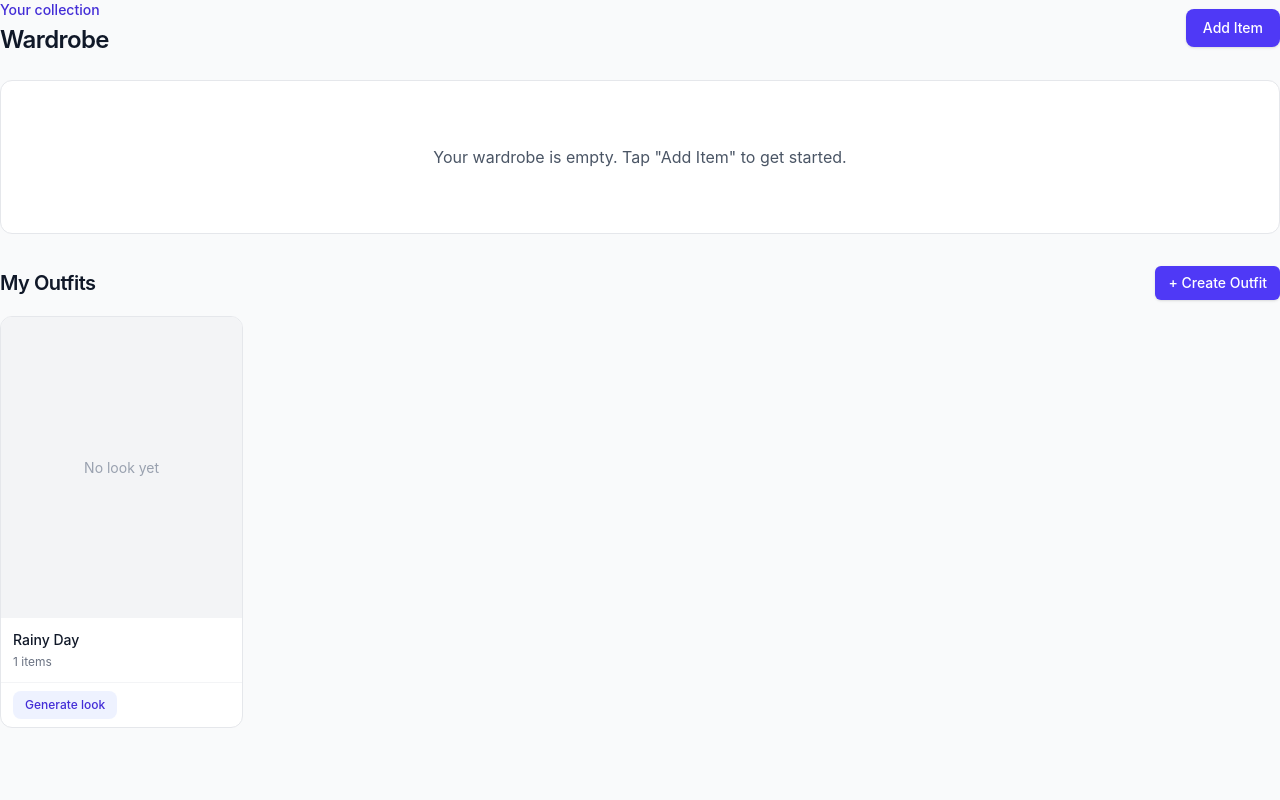
Scenario: WardrobePage saved outfit look cards › starts nothing on load; Cancel in the confirmation spends nothing
The width and height of the screenshot is (1280, 800).
Click the button with aria-label "Generate look for Rainy Day".
click(65, 706)  # box [13,692,117,720]
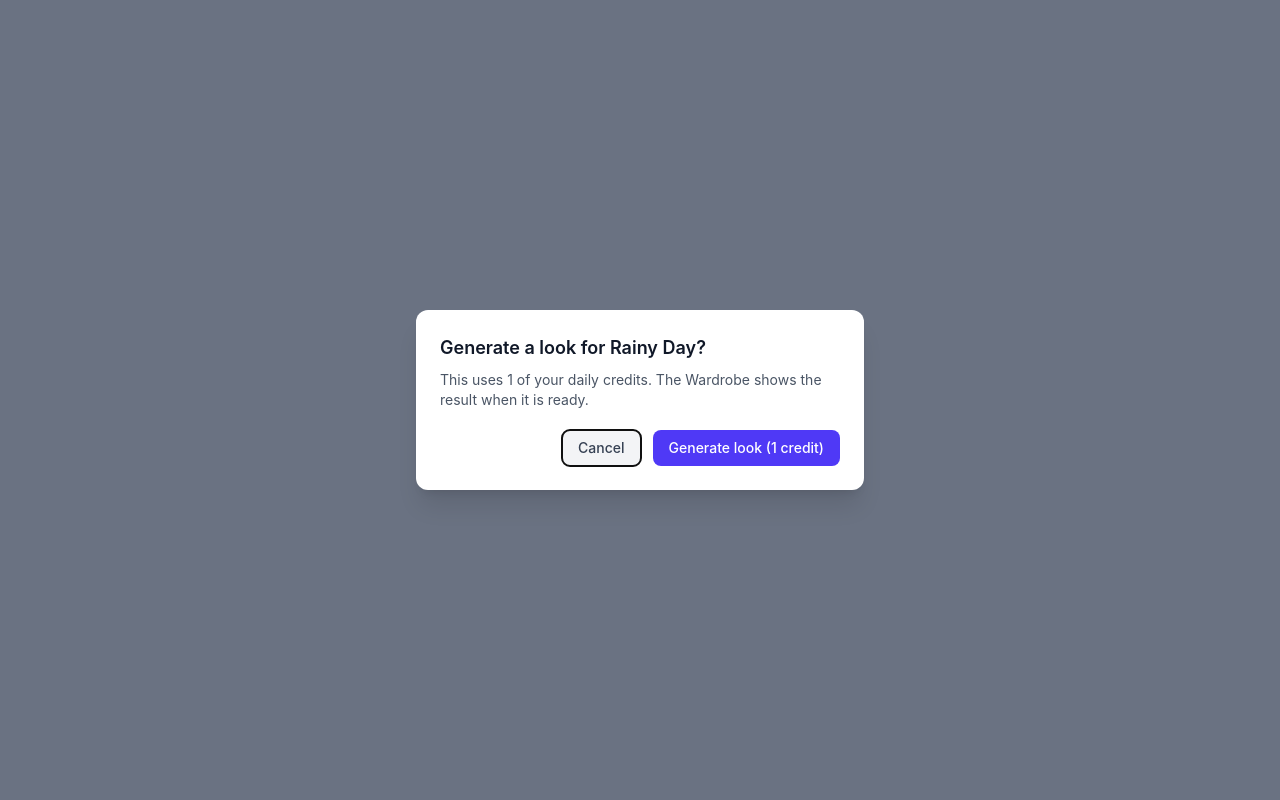
Result: the dialog shows "This uses 1 of your daily credits." at [440,371,822,408]
Click the button "Cancel".
click(601, 448)  # box [562,430,640,466]
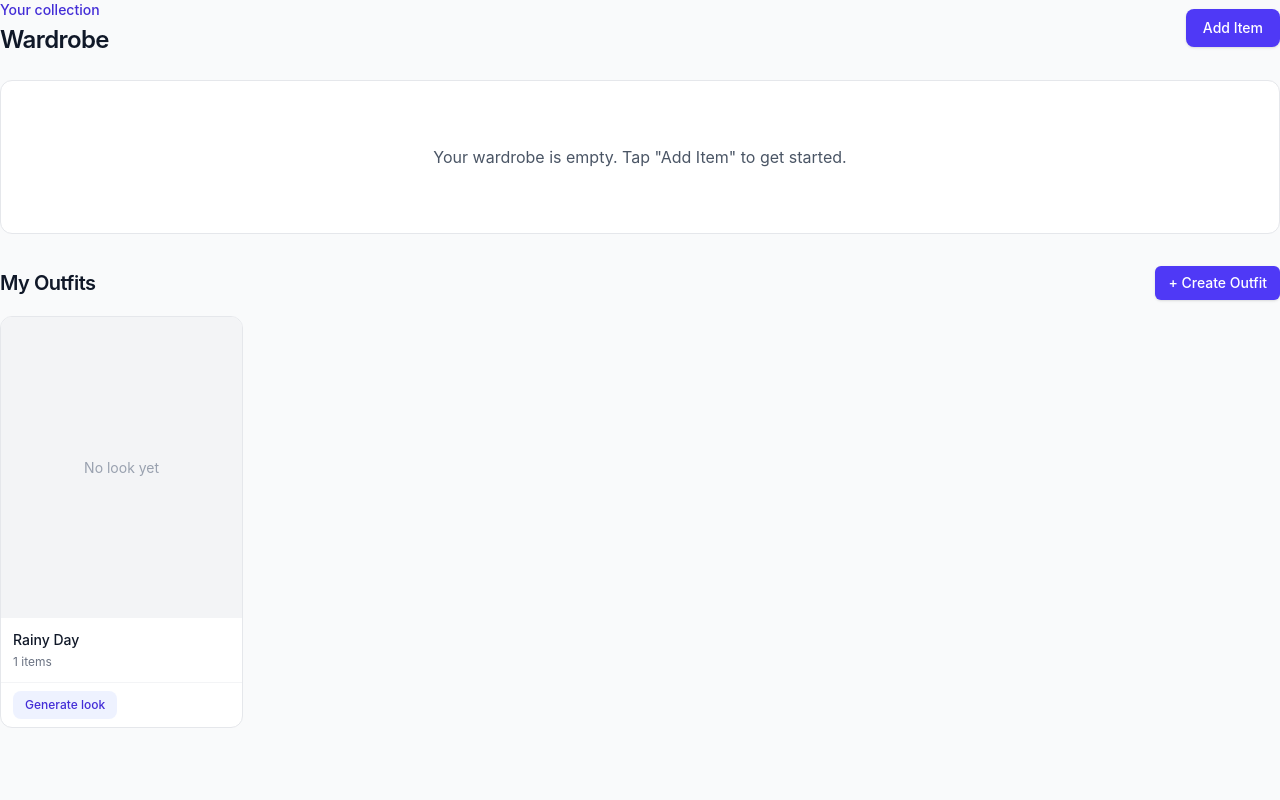
Result: the dialog is gone
